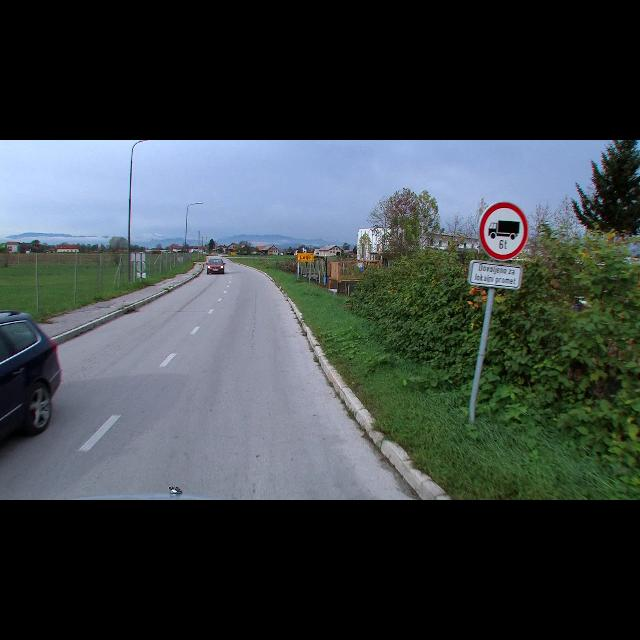Rectangle: (467, 259, 523, 289)
Round: (479, 202, 529, 260)
